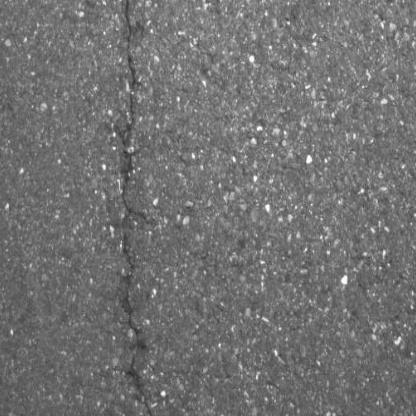Cracks: (115, 0, 160, 416)
